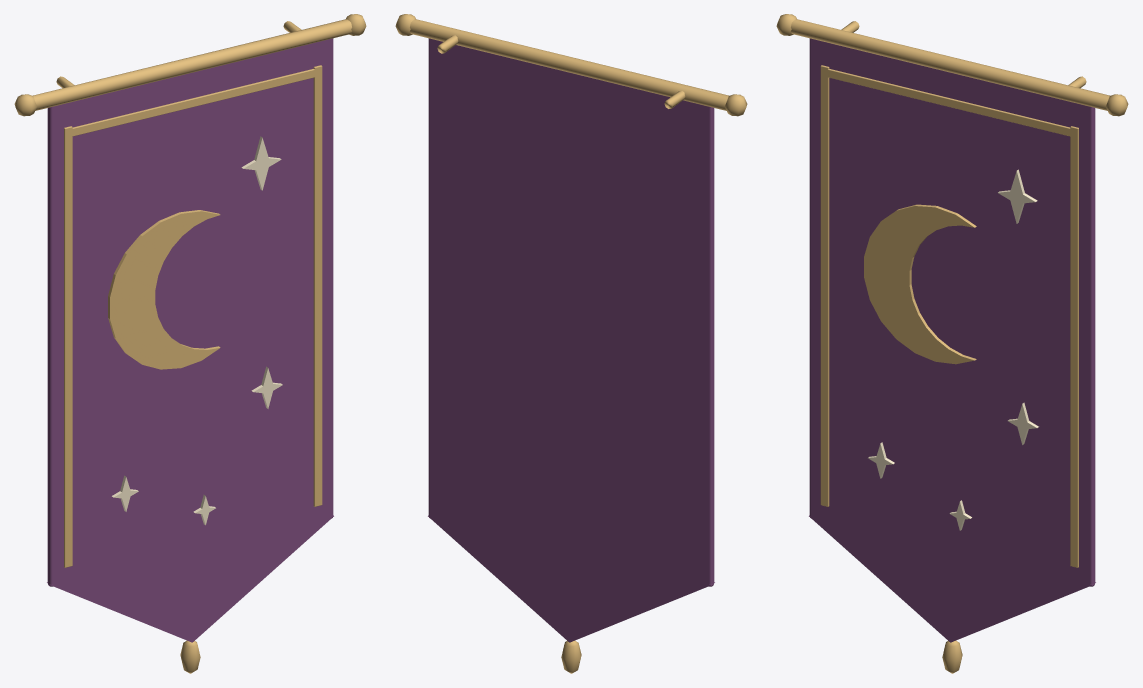
The model's file is Moon_Tapestry.fbx.
3 views of the same model, side by side, from view 1: azimuth 30°, elevation 25°; view 2: azimuth 150°, elevation 25°; view 3: azimuth 330°, elevation 25° (orthographic).
Parts seen in each view (by area): view 1: Moon_Tapestry_Mesh; view 2: Moon_Tapestry_Mesh; view 3: Moon_Tapestry_Mesh.
Part boxes in pixels (<box>): Moon_Tapestry_Mesh: <box>14,14,366,673</box>; Moon_Tapestry_Mesh: <box>395,14,747,673</box>; Moon_Tapestry_Mesh: <box>776,14,1128,673</box>.
Bounding box in the file's own units: 0.616 × 1.04 × 0.068.
